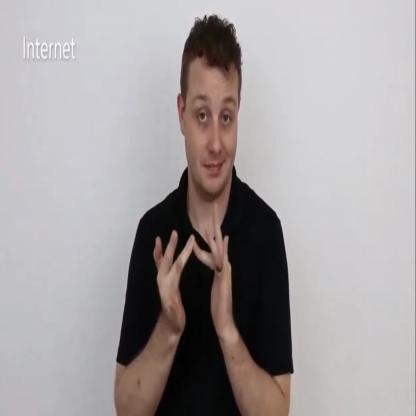Internet: (115, 11, 295, 416)
